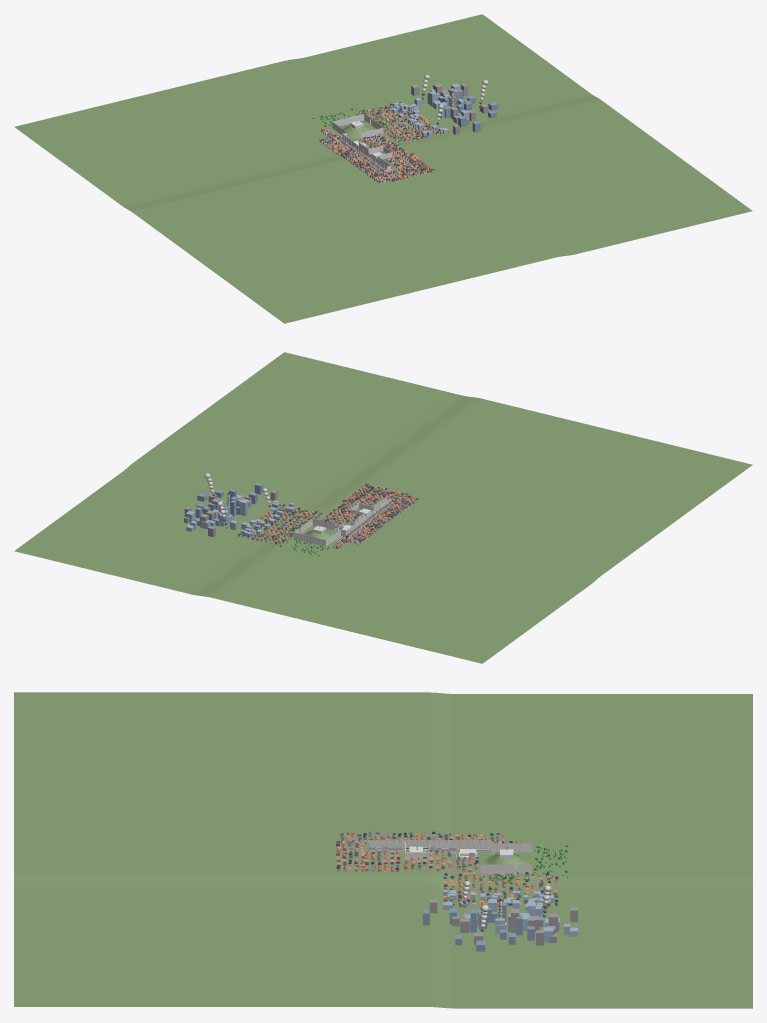
The model's file is m7_relay.glb.
3 renders of one model, top to bottom at view 1: azimuth 30°, elevation 25°; view 2: azimuth 150°, elevation 25°; view 3: azimuth 270°, elevation 25°, orthographic. The views are drawn at different scales.
Parts seen in each view (by area): view 1: ground_base, skyline_far_far, outskirts_coral, skyline_concrete_d_far, outskirts_navy_l, outskirts_roof, skyline_far_d_far, outskirts_warm_d, outskirts_concrete, outskirts_warm, outskirts_brick; view 2: ground_base, skyline_far_far, outskirts_coral, skyline_far_d_far, outskirts_roof, outskirts_navy_l, outskirts_warm_d, skyline_concrete_d_far, outskirts_concrete, outskirts_warm, outskirts_brick; view 3: ground_base, skyline_far_far, outskirts_coral, skyline_concrete_d_far, skyline_far_d_far, outskirts_roof, outskirts_navy_l, outskirts_warm_d, outskirts_concrete, outskirts_brick, outskirts_warm.
Boxes of the visible parts, left/top/right/bottom form: ground_base: left=14, top=14, right=752, bottom=323; skyline_far_far: left=391, top=83, right=469, bottom=137; outskirts_coral: left=319, top=106, right=442, bottom=179; skyline_concrete_d_far: left=411, top=83, right=488, bottom=134; outskirts_navy_l: left=320, top=102, right=439, bottom=182; outskirts_roof: left=321, top=105, right=438, bottom=181; skyline_far_d_far: left=437, top=89, right=498, bottom=132; outskirts_warm_d: left=323, top=103, right=442, bottom=181; outskirts_concrete: left=324, top=105, right=435, bottom=179; outskirts_warm: left=319, top=108, right=439, bottom=183; outskirts_brick: left=321, top=106, right=438, bottom=181; ground_base: left=14, top=352, right=752, bottom=663; skyline_far_far: left=186, top=494, right=294, bottom=536; outskirts_coral: left=248, top=486, right=414, bottom=546; skyline_far_d_far: left=195, top=483, right=262, bottom=526; outskirts_roof: left=251, top=485, right=416, bottom=547; outskirts_navy_l: left=238, top=483, right=418, bottom=543; outskirts_warm_d: left=238, top=484, right=416, bottom=547; skyline_concrete_d_far: left=184, top=490, right=277, bottom=537; outskirts_concrete: left=242, top=487, right=409, bottom=545; outskirts_warm: left=251, top=487, right=418, bottom=548; outskirts_brick: left=240, top=486, right=411, bottom=548; ground_base: left=14, top=692, right=752, bottom=1008; skyline_far_far: left=443, top=889, right=577, bottom=942; outskirts_coral: left=336, top=831, right=557, bottom=904; skyline_concrete_d_far: left=429, top=899, right=577, bottom=945; skyline_far_d_far: left=423, top=903, right=543, bottom=951; outskirts_roof: left=336, top=831, right=557, bottom=904; outskirts_navy_l: left=336, top=831, right=558, bottom=905; outskirts_warm_d: left=336, top=833, right=557, bottom=907; outskirts_concrete: left=336, top=833, right=557, bottom=906; outskirts_brick: left=336, top=834, right=558, bottom=907; outskirts_warm: left=336, top=833, right=556, bottom=907.
Bounding box in the file's own units: 1800 × 109 × 1800.
